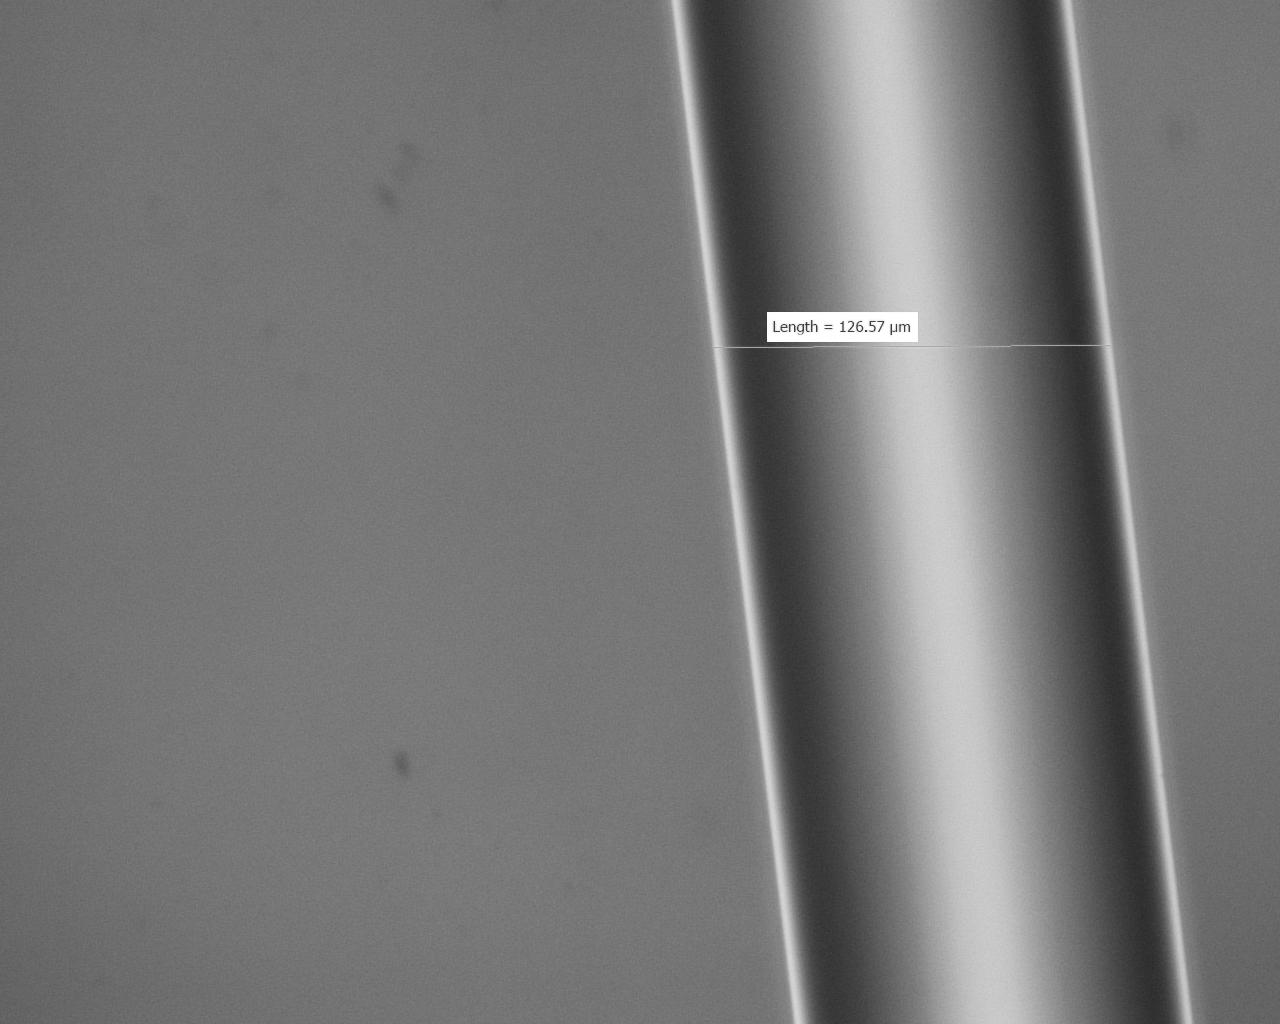fiber: (670, 0, 1193, 1024)
